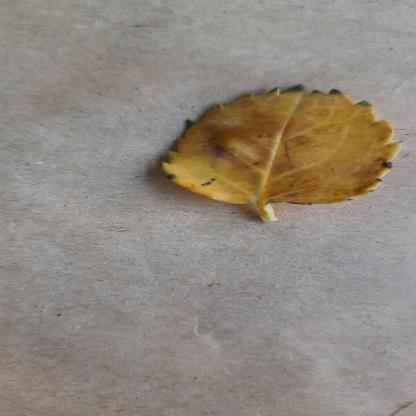black-spot: (156, 83, 398, 207)
